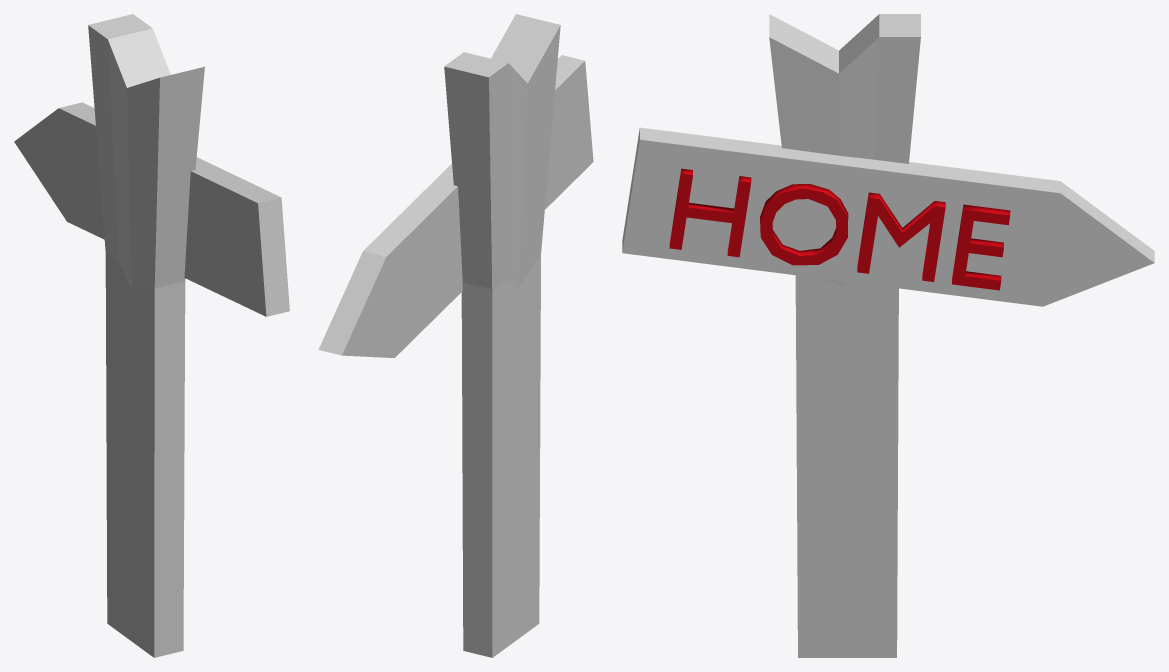
File: homeSign.fbx
The picture shows the model from 3 angles, left to right: view 1: azimuth 30°, elevation 25°; view 2: azimuth 150°, elevation 25°; view 3: azimuth 270°, elevation 25°; orthographic projection. The views are drawn at different scales.
Visible parts, largest first — view 1: Cube, Cube.001; view 2: Cube, Cube.001; view 3: Cube, Cube.001, Text.
Part boxes in pixels (left/top/right/bottom): Cube: left=88, top=14, right=204, bottom=657; Cube.001: left=14, top=102, right=289, bottom=316; Cube: left=444, top=14, right=560, bottom=657; Cube.001: left=318, top=55, right=593, bottom=357; Cube: left=769, top=14, right=920, bottom=657; Cube.001: left=622, top=127, right=1154, bottom=306; Text: left=669, top=168, right=1010, bottom=290.
Bounding box in the file's own units: 33.18 × 261 × 201.
